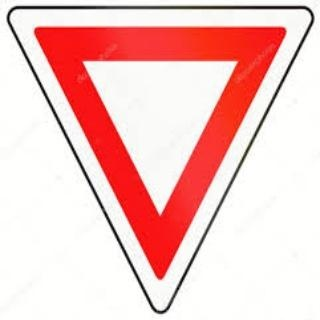sign_yield: (2, 8, 310, 314)
